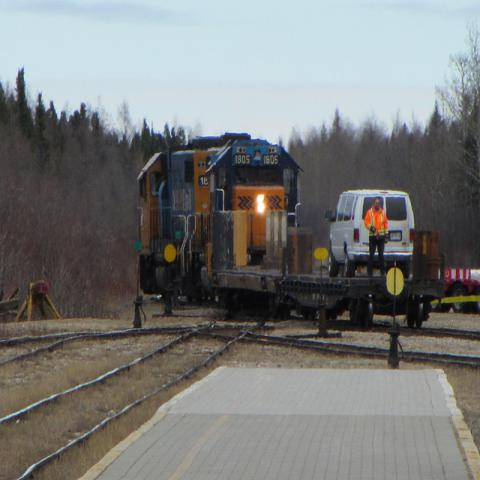car: (326, 188, 415, 278)
truck: (432, 268, 479, 313)
